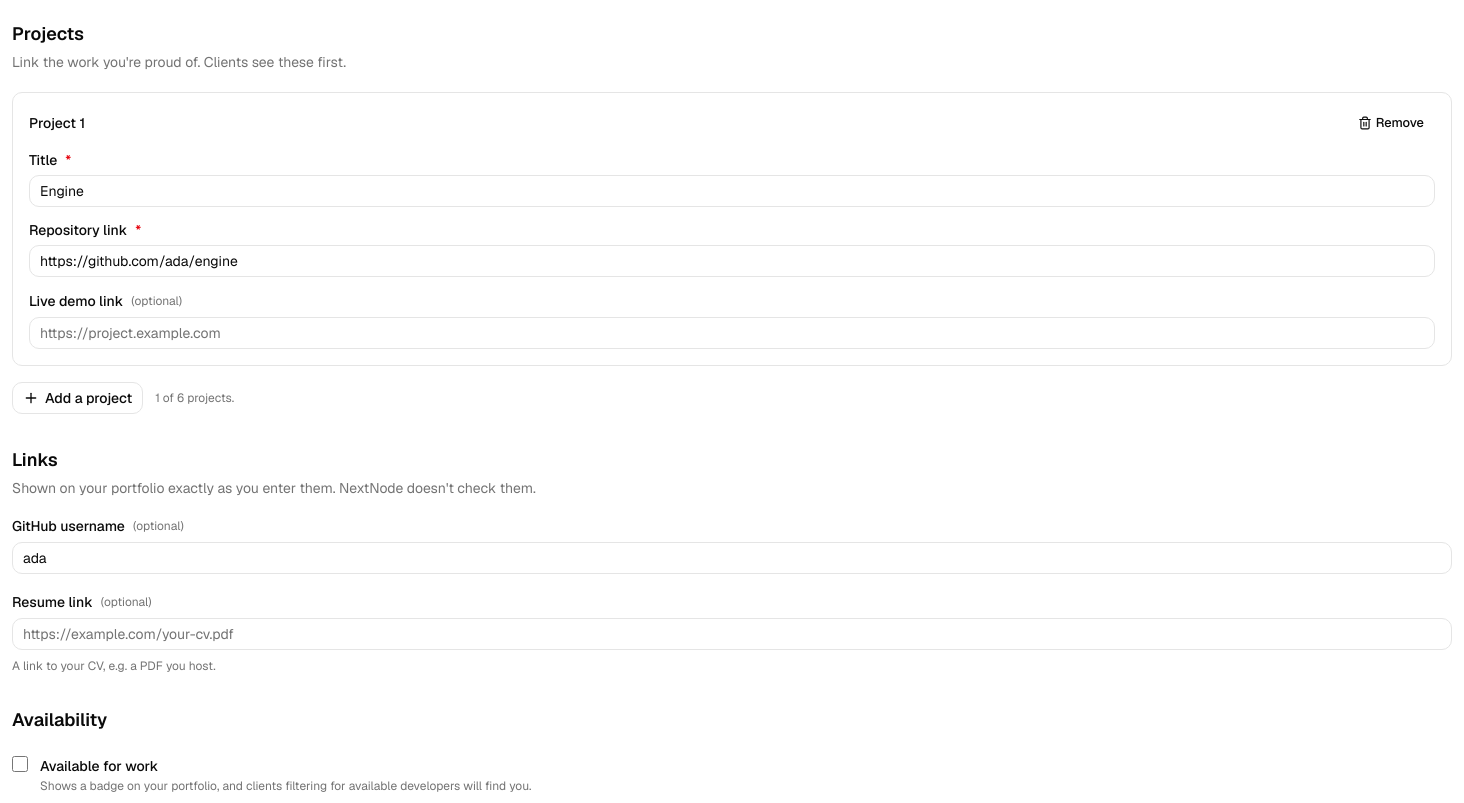
Scenario: EditPortfolioForm › allows at most six projects and says why the button stopped
(page scrolled)
Click the button "Add a project".
click(78, 398)  # box [12,382,143,414]
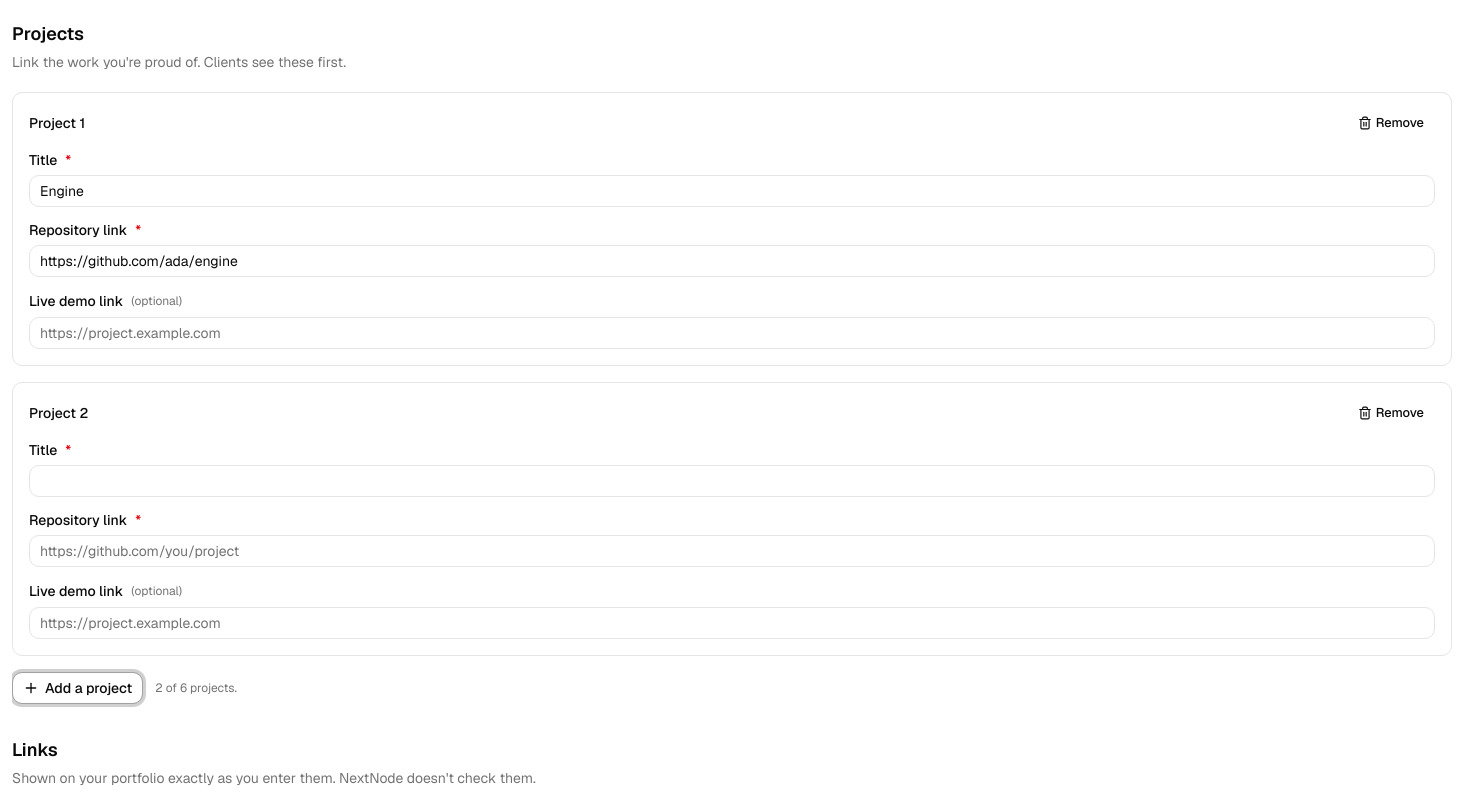
Click the button "Add a project".
click(78, 688)  # box [12,672,143,704]
(page scrolled)
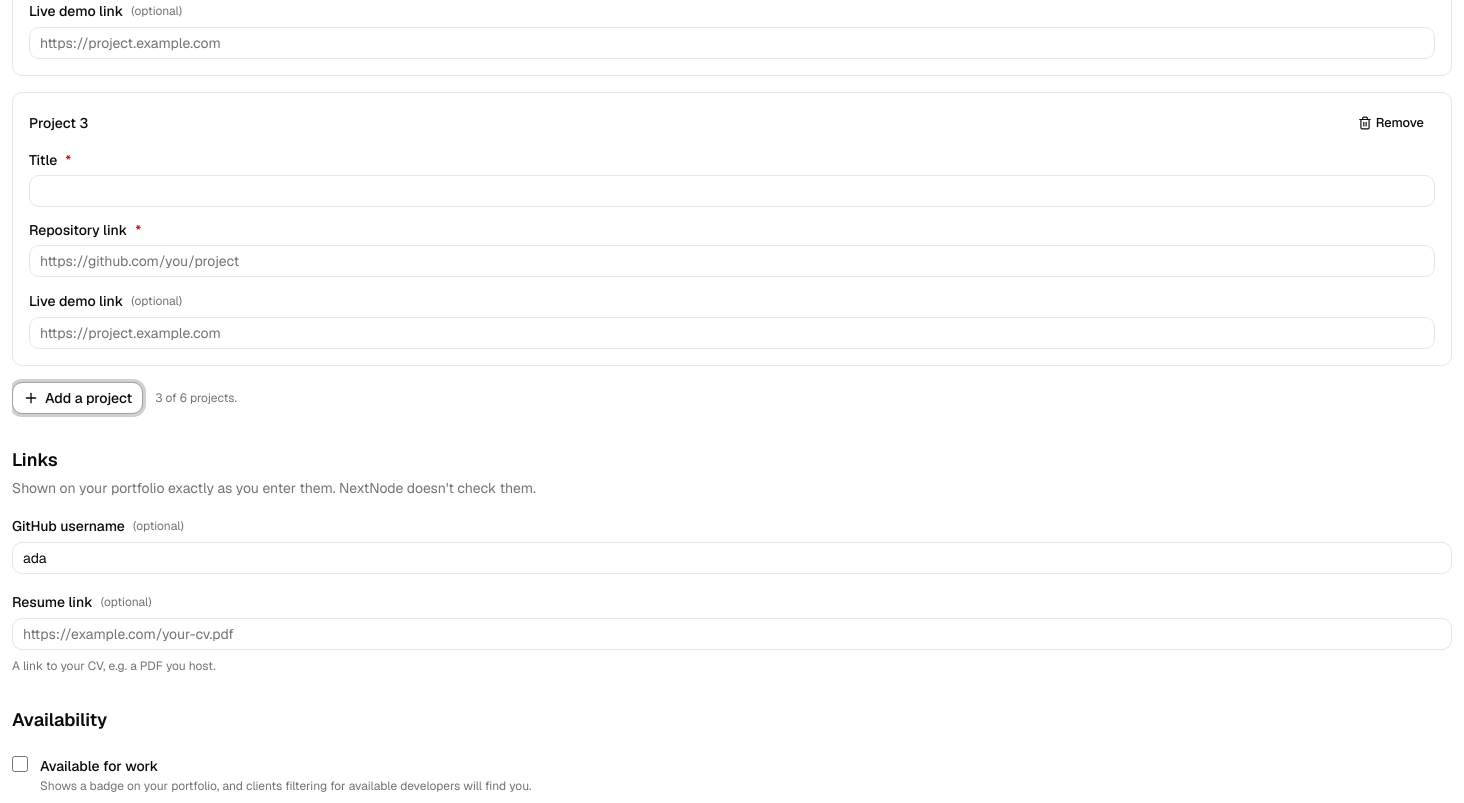
Click the button "Add a project".
click(78, 398)  # box [12,382,143,414]
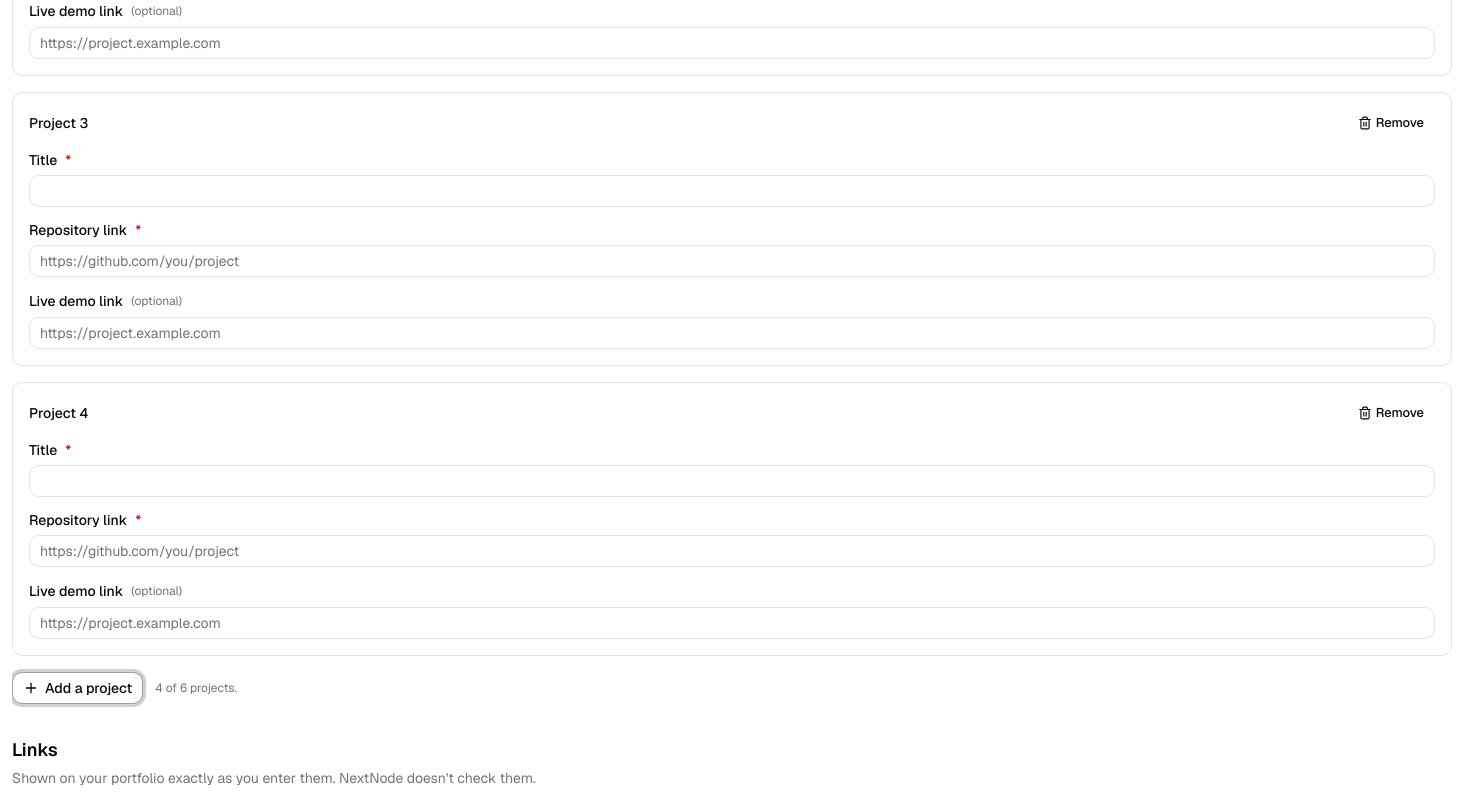
Click the button "Add a project".
click(78, 688)  # box [12,672,143,704]
(page scrolled)
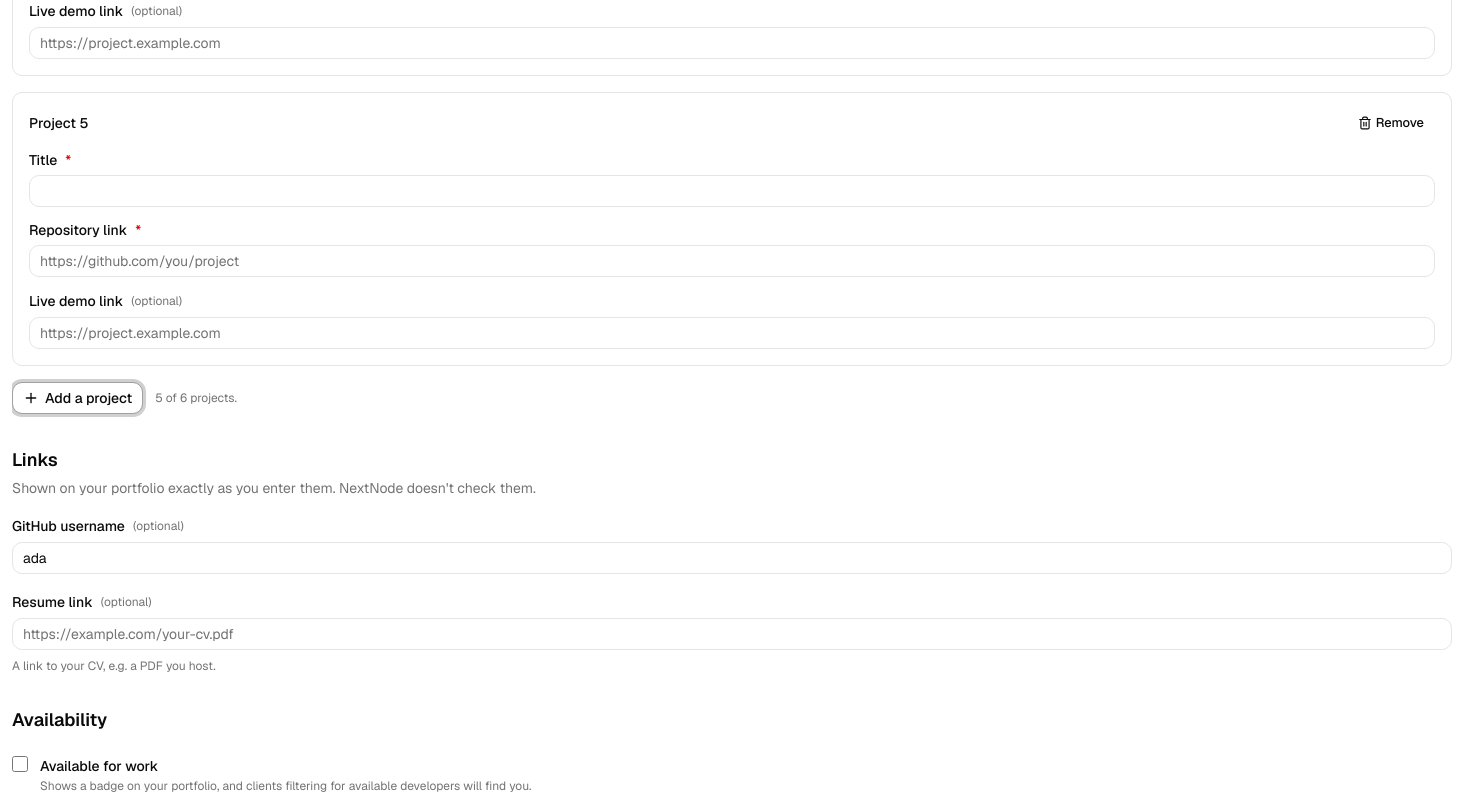
Click the button "Add a project".
click(78, 398)  # box [12,382,143,414]
(page scrolled)
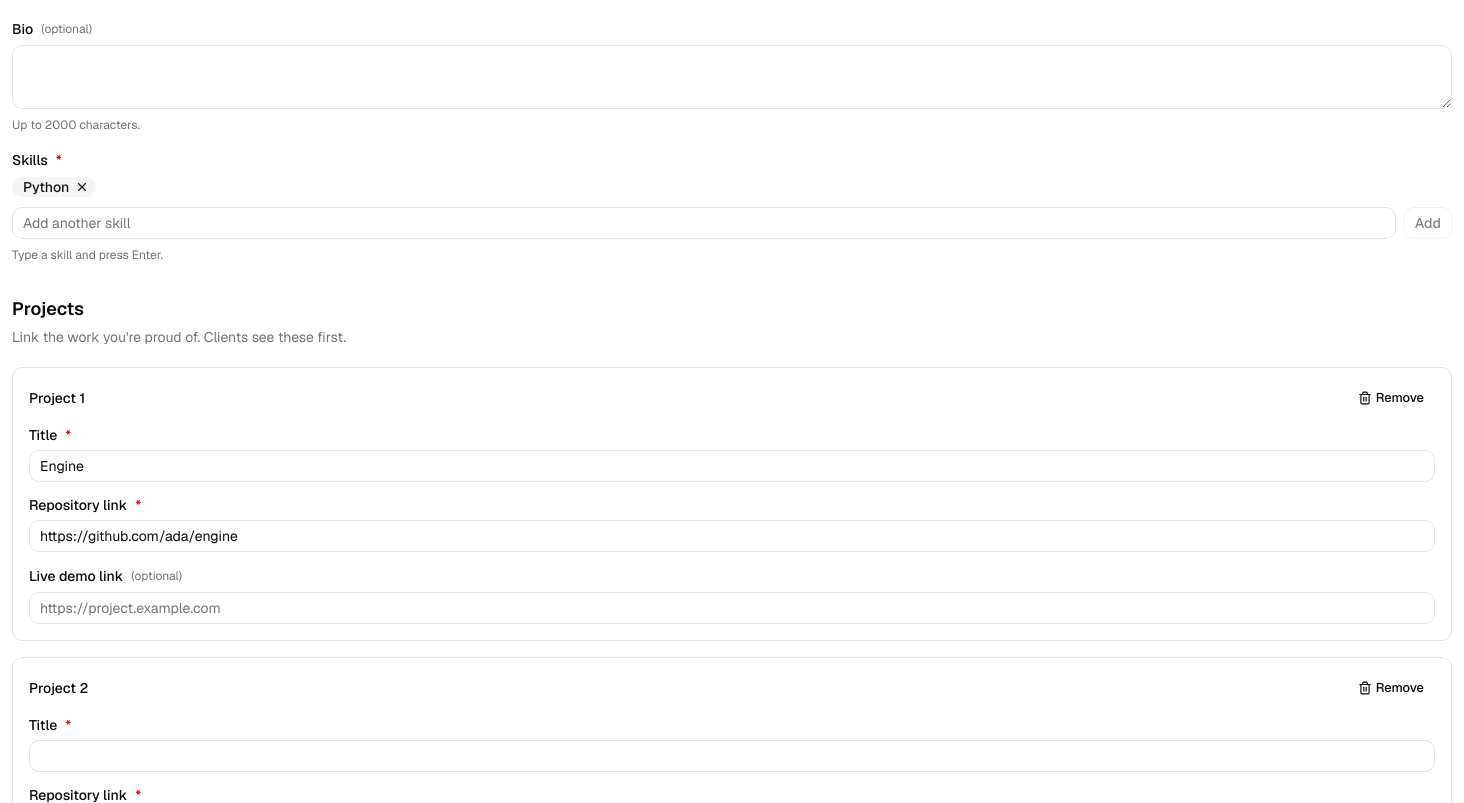
Click the button named "Remove Engine".
click(1391, 398)  # box [1347,384,1435,412]
(page scrolled)
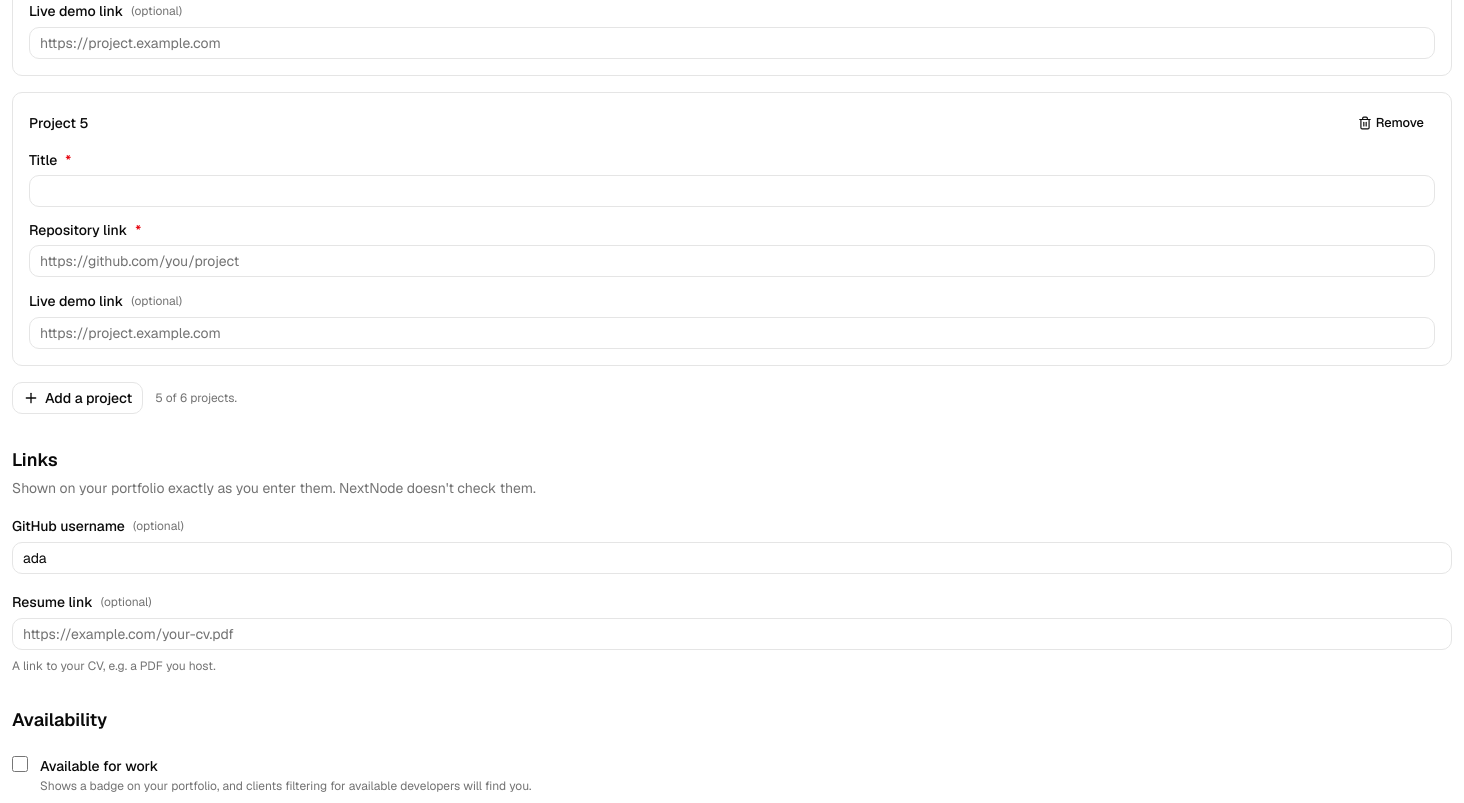
Expected: the button "Add a project" is enabled, [12,382,143,414]
